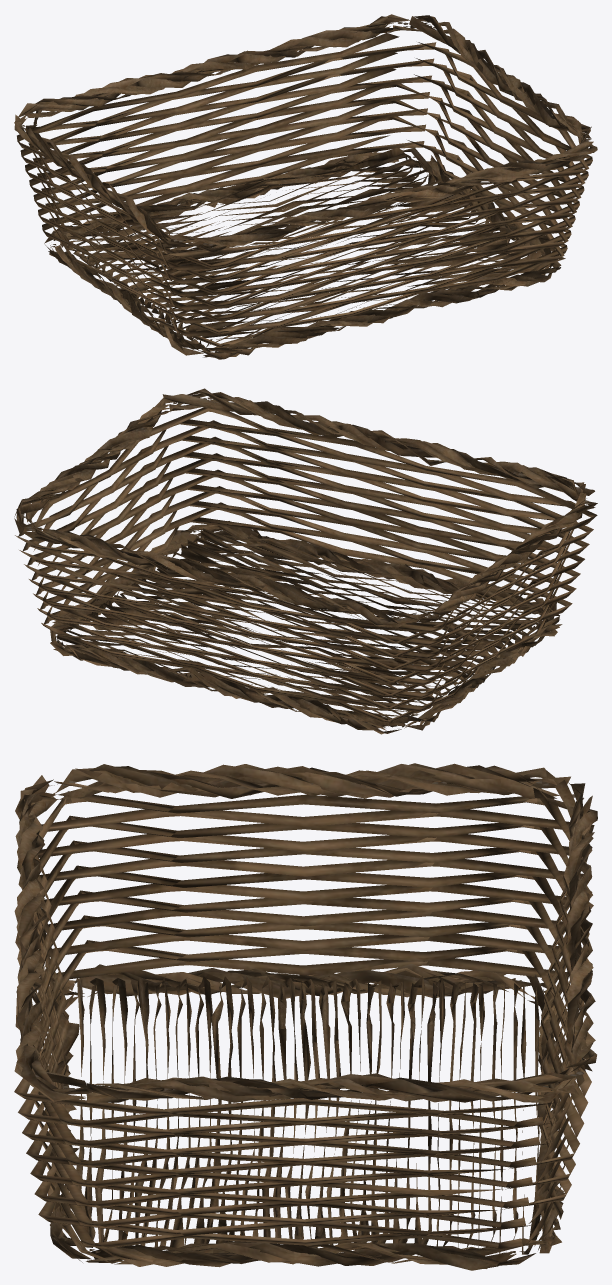
File: wicker_basket_01.glb
3 views of the same model, one above another, from view 1: azimuth 30°, elevation 25°; view 2: azimuth 150°, elevation 25°; view 3: azimuth 270°, elevation 25° (orthographic). The views are drawn at different scales.
Visible parts, largest first — view 1: wicker_basket_01; view 2: wicker_basket_01; view 3: wicker_basket_01.
Part boxes in pixels (x1,y1,x2,y2): wicker_basket_01: (14,14,597,359); wicker_basket_01: (14,388,597,734); wicker_basket_01: (14,763,597,1270).
Bounding box in the file's own units: 0.3837 × 0.1186 × 0.2934.
Materials: 1 (1 with a texture image).
